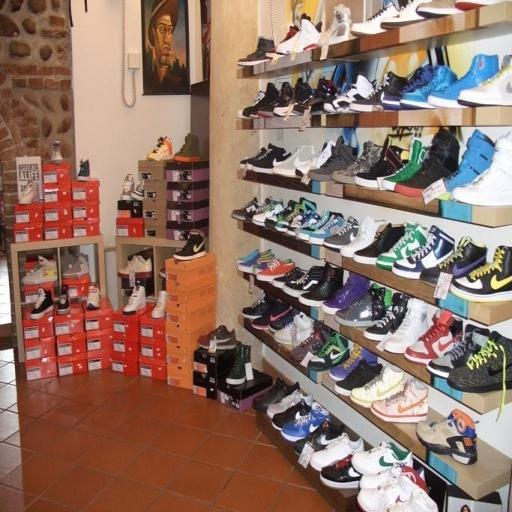shoe: (342, 364, 404, 472), (382, 0, 434, 110), (352, 456, 437, 512), (450, 131, 512, 207), (394, 127, 460, 197), (447, 331, 512, 394), (352, 442, 412, 510), (428, 53, 500, 108), (440, 129, 495, 199), (450, 245, 512, 302), (426, 323, 490, 378), (391, 225, 455, 279), (416, 409, 478, 464), (404, 309, 463, 365), (420, 236, 487, 285), (457, 55, 512, 106), (354, 137, 405, 190), (382, 298, 428, 354), (370, 379, 428, 423), (400, 65, 458, 109), (376, 222, 428, 270), (334, 284, 392, 327), (380, 137, 426, 191), (350, 71, 407, 112), (308, 135, 357, 182), (364, 292, 410, 341), (352, 223, 405, 265), (332, 140, 382, 184), (298, 263, 344, 308), (322, 272, 370, 315), (310, 433, 364, 471), (324, 74, 375, 113), (281, 402, 330, 442), (334, 359, 382, 397), (329, 344, 377, 382), (340, 217, 385, 257), (293, 420, 344, 455), (275, 17, 321, 55), (274, 78, 318, 117), (360, 463, 426, 489), (252, 378, 300, 413), (307, 332, 350, 371), (290, 325, 329, 367), (351, 2, 399, 36), (238, 82, 280, 119), (274, 198, 316, 235), (295, 140, 335, 178), (272, 394, 314, 430), (296, 209, 343, 241), (272, 144, 316, 178), (299, 213, 345, 245), (320, 454, 361, 489), (21, 255, 67, 285), (320, 3, 352, 46), (269, 78, 304, 117), (282, 265, 324, 297), (247, 143, 290, 174), (265, 198, 304, 231), (253, 300, 292, 333), (274, 312, 313, 345), (266, 388, 306, 420), (323, 216, 360, 250), (388, 487, 438, 512), (266, 25, 299, 59), (226, 342, 251, 386), (238, 36, 274, 66), (311, 76, 339, 113), (173, 230, 206, 261), (284, 209, 319, 238), (195, 325, 237, 349), (241, 293, 276, 320), (256, 258, 295, 282), (251, 199, 285, 226), (237, 249, 274, 273), (118, 254, 153, 279), (417, 0, 462, 19), (173, 133, 201, 163), (251, 301, 279, 331), (271, 266, 306, 289), (29, 288, 53, 320), (245, 196, 273, 222), (123, 285, 146, 315), (62, 253, 89, 278), (231, 197, 259, 221), (239, 147, 267, 170), (147, 136, 172, 161), (251, 254, 277, 275), (19, 180, 40, 205), (455, 0, 501, 11), (151, 290, 168, 319), (120, 173, 135, 201), (57, 285, 70, 315), (86, 284, 100, 311), (76, 159, 90, 181), (50, 140, 63, 163), (131, 180, 145, 201), (158, 266, 166, 280)
